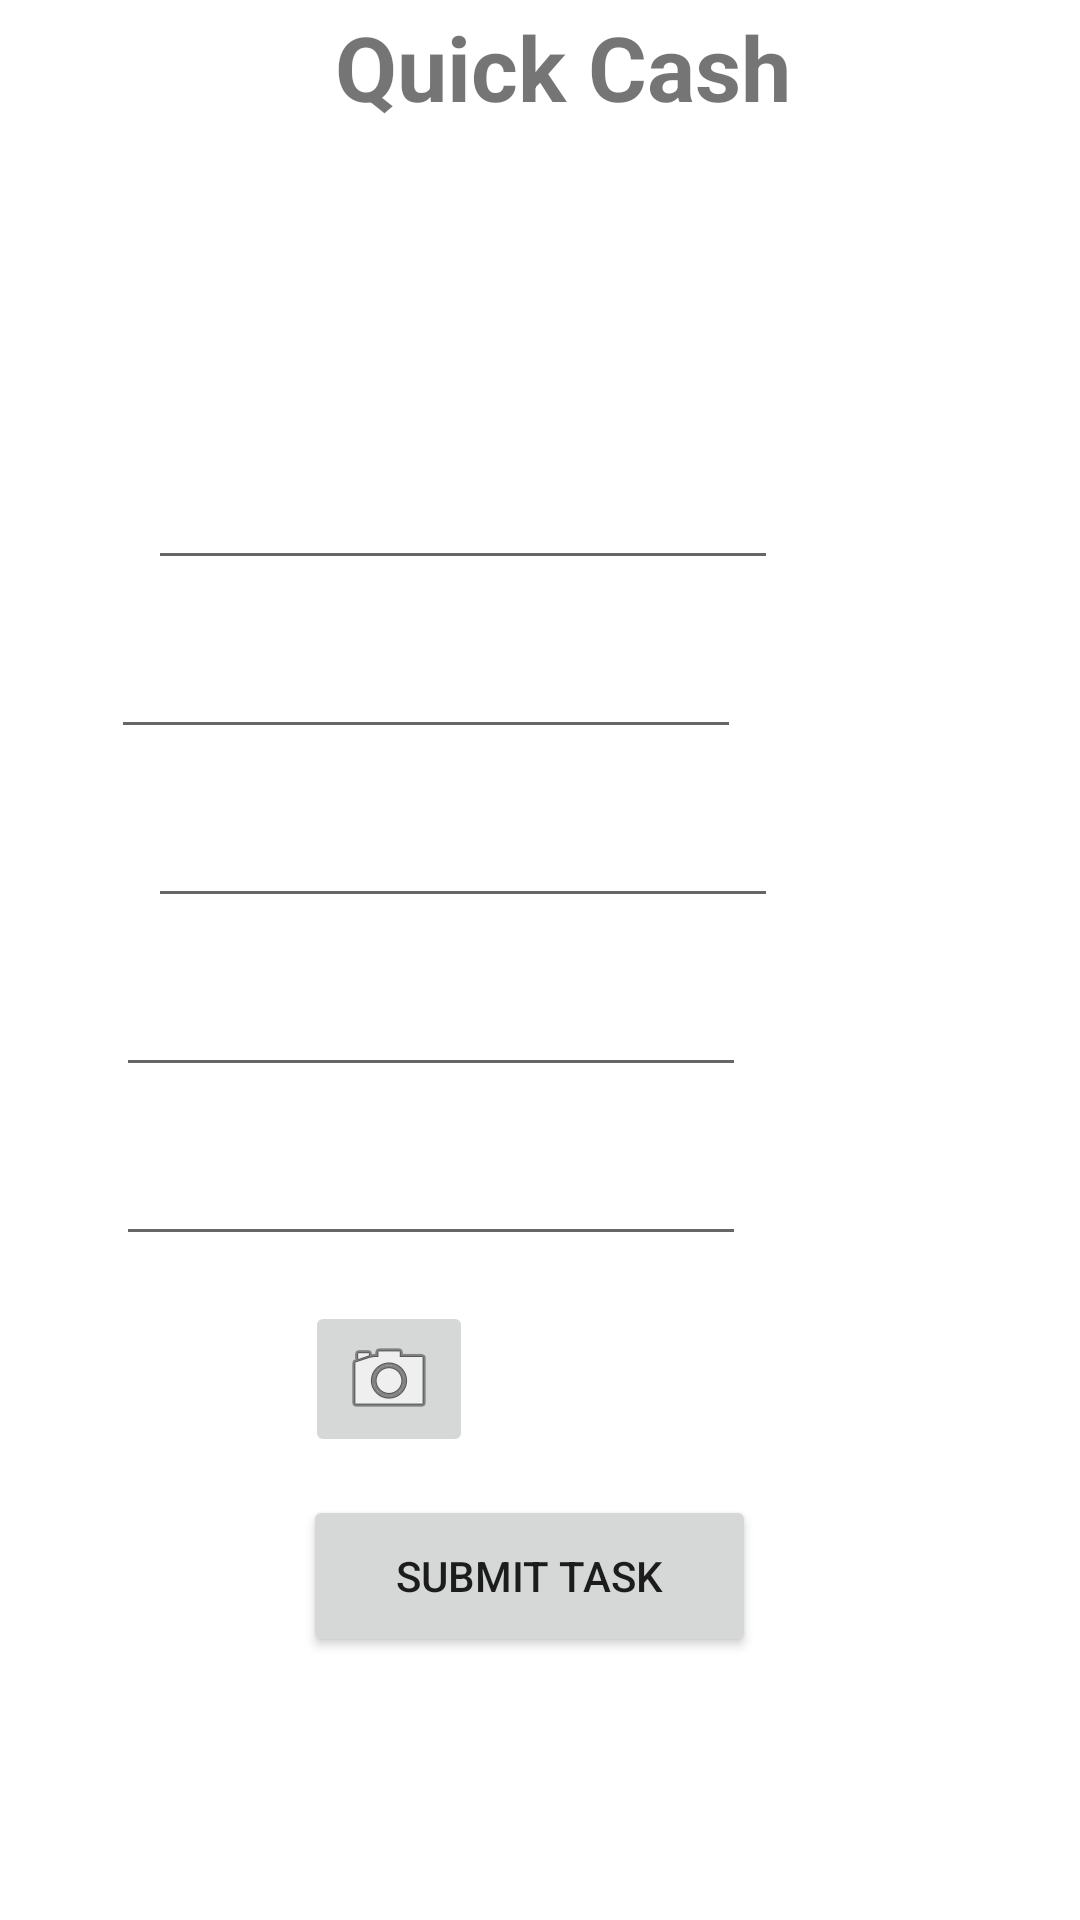

Icons on this 1080x1920 Android screen, each with the point to tap as (x,y):
camera: (389,1379)
